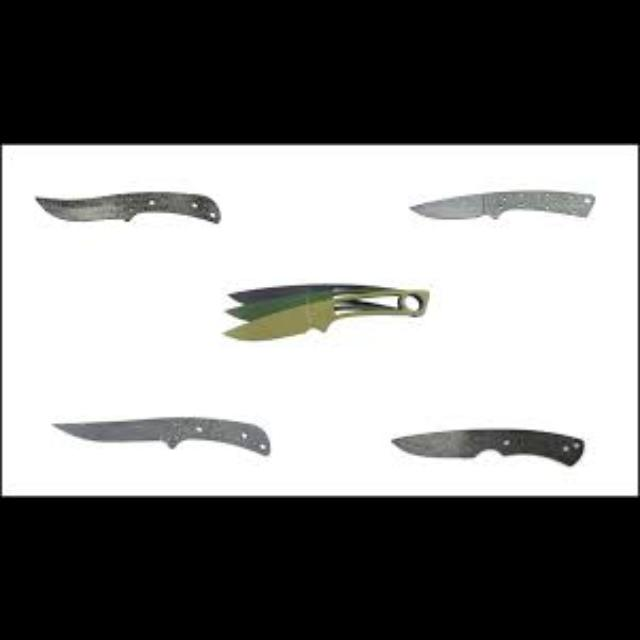Knife: (221, 280, 429, 340), (52, 414, 270, 454), (390, 427, 584, 465), (35, 189, 222, 223), (408, 190, 596, 218)
